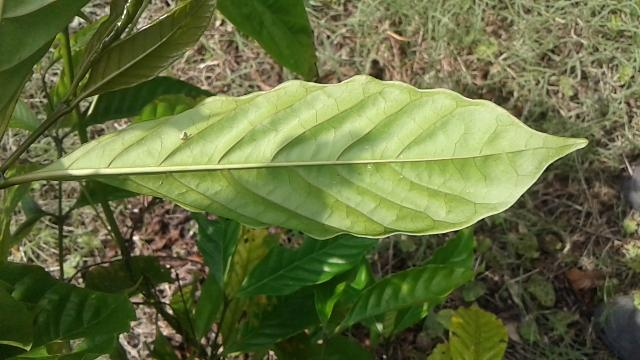healthy: (36, 73, 587, 241)
